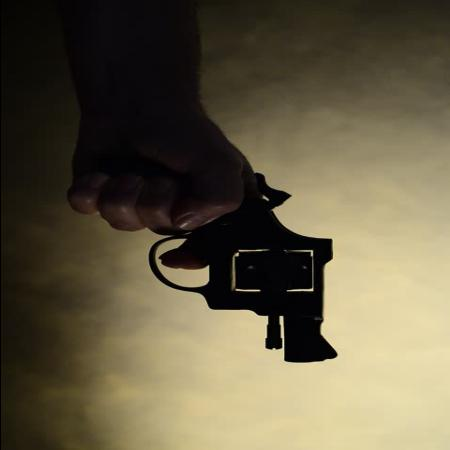Pistol: (147, 169, 340, 364)
